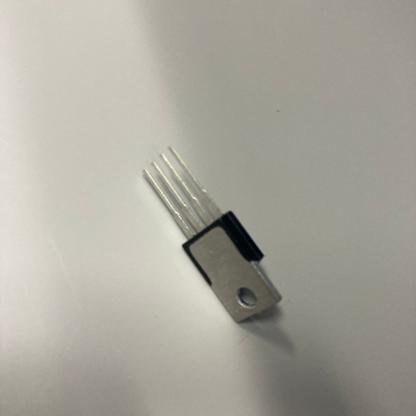SP0000012: (118, 139, 331, 358)
